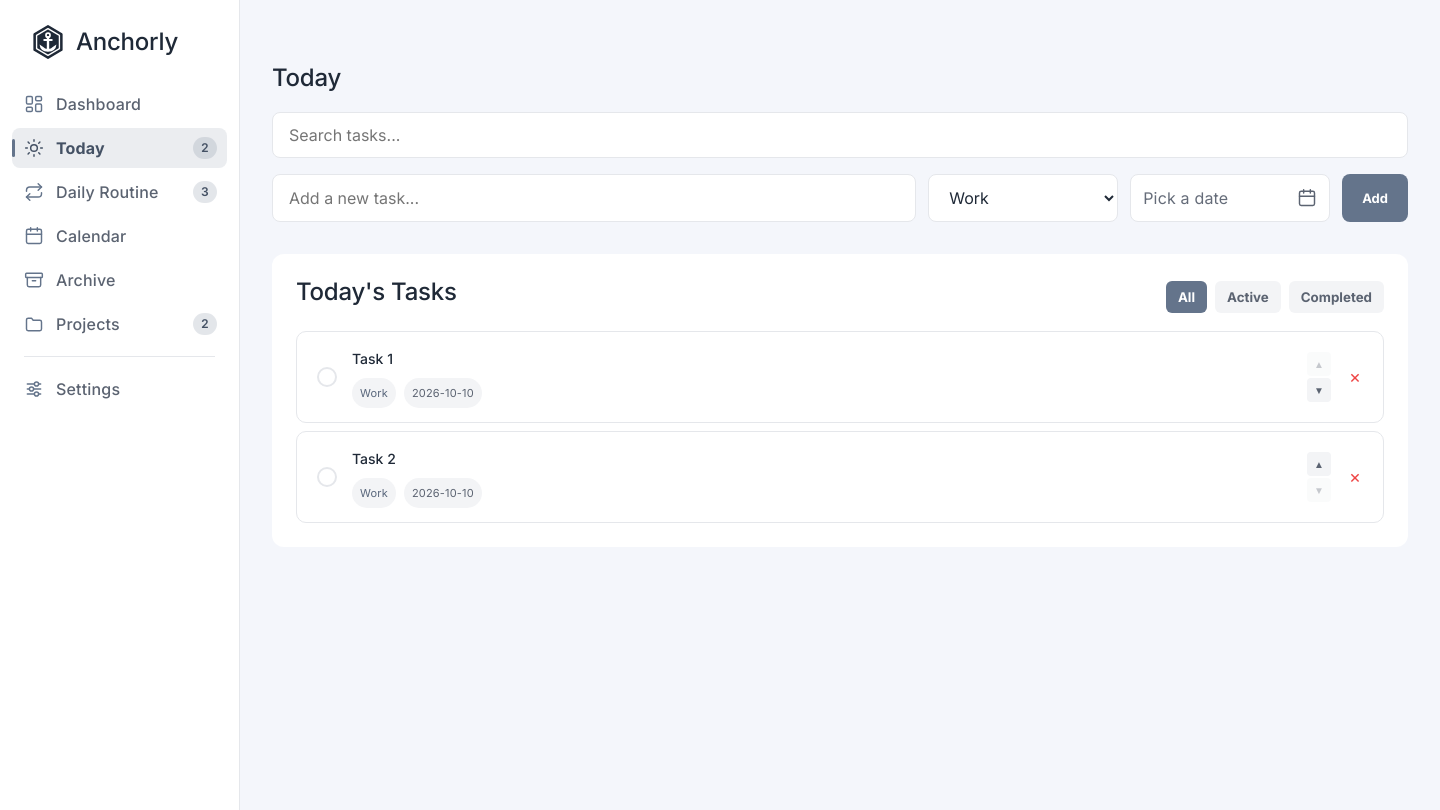
Test: App deleting a task › removes the task from the list and from storage
The width and height of the screenshot is (1440, 810).
Click the 1st button "×" at (1355, 377), box [1343, 365, 1367, 389]
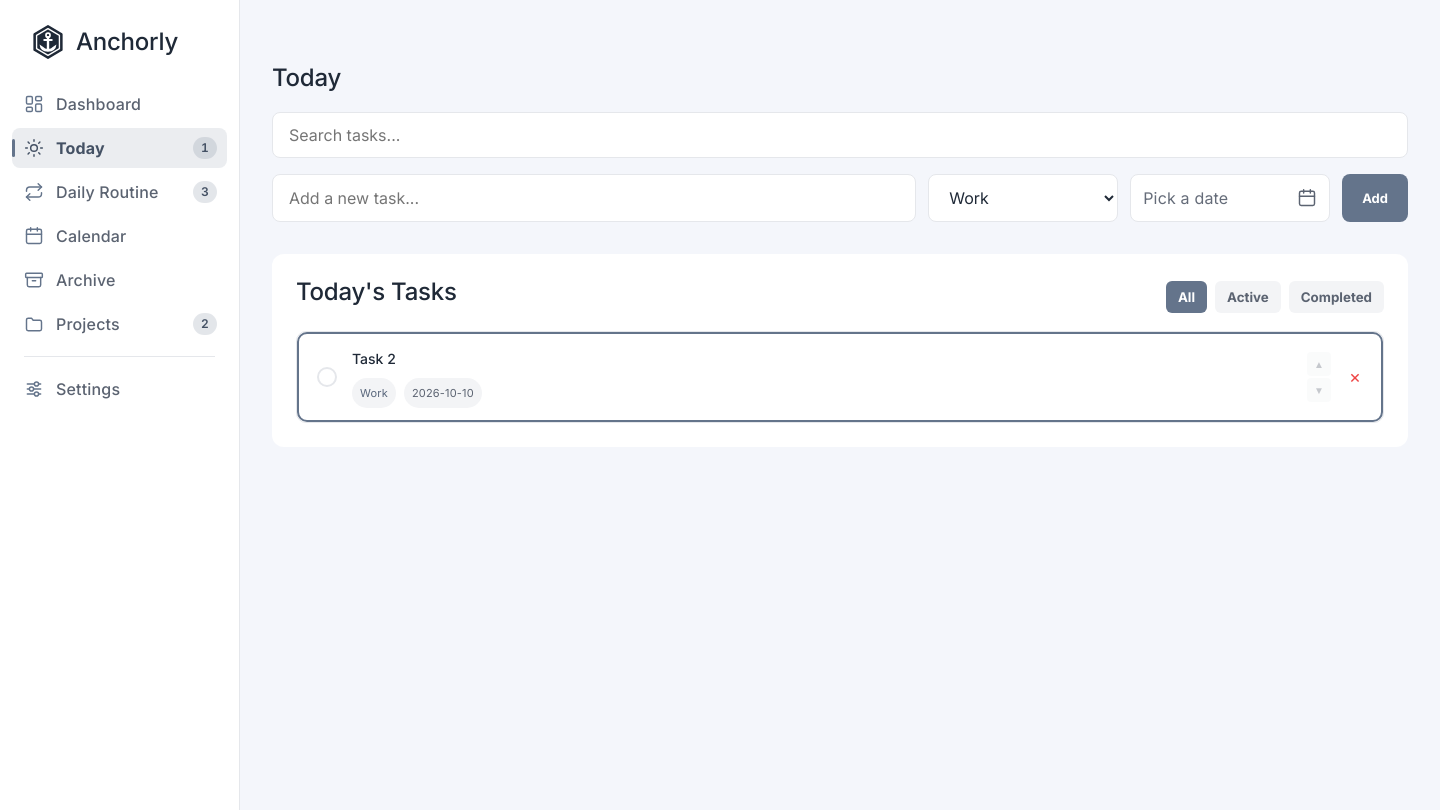
Expected: the list item "Task 2" is shown, [352, 346, 396, 372]
Expected: the button "Task 1" is gone
